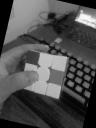rubik: (18, 48, 70, 100)
